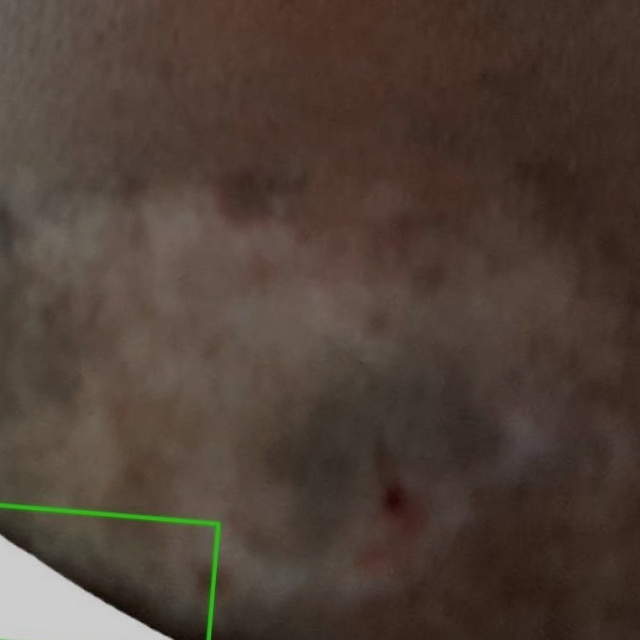Contact Dermatitis: (0, 505, 218, 639)
